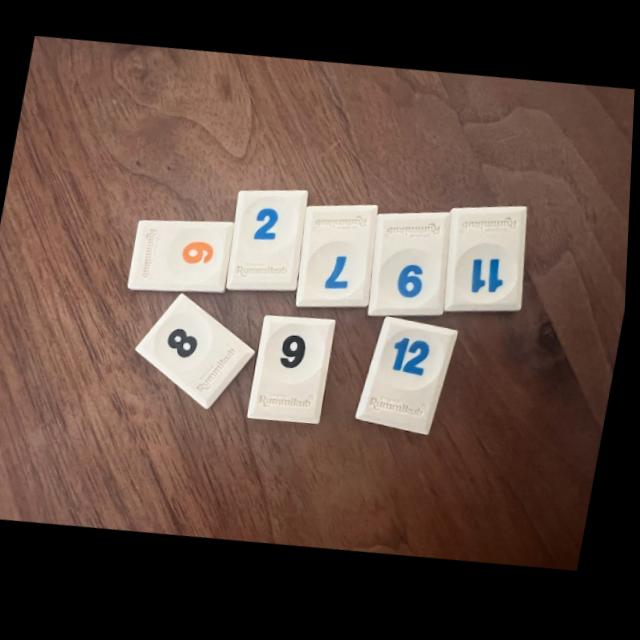black_8: (140, 296, 258, 411)
black_9: (252, 319, 338, 427)
blue_11: (447, 212, 529, 317)
blue_12: (360, 321, 460, 439)
blue_2: (229, 194, 310, 294)
blue_7: (299, 210, 379, 311)
blue_9: (371, 218, 452, 321)
orange_6: (132, 222, 235, 294)
